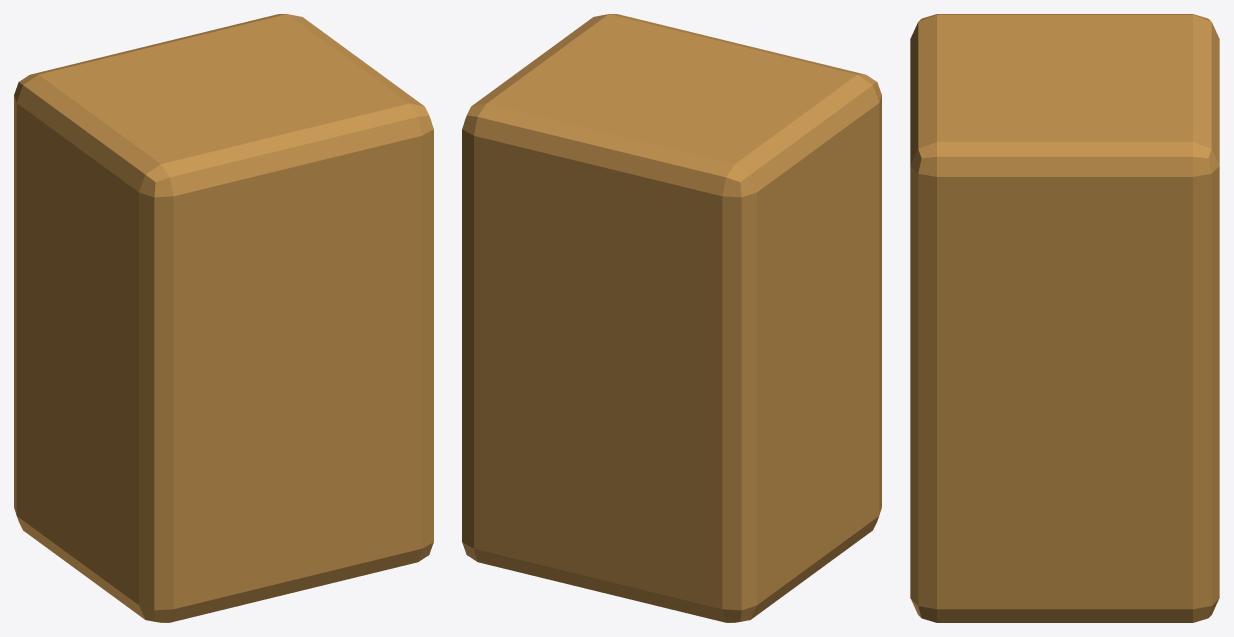
Rendered from SM_Lab_ToolCase__Latch_N0_16.fbx.
3 views of the same model, side by side, from view 1: azimuth 30°, elevation 25°; view 2: azimuth 150°, elevation 25°; view 3: azimuth 270°, elevation 25° (orthographic). The views are drawn at different scales.
Parts seen in each view (by area): view 1: SM_Lab_ToolCase__Latch_N0_16; view 2: SM_Lab_ToolCase__Latch_N0_16; view 3: SM_Lab_ToolCase__Latch_N0_16.
Boxes of the visible parts, bbox=[...] form: SM_Lab_ToolCase__Latch_N0_16: bbox=[14, 14, 433, 622]; SM_Lab_ToolCase__Latch_N0_16: bbox=[462, 14, 881, 622]; SM_Lab_ToolCase__Latch_N0_16: bbox=[910, 14, 1219, 622].
Size of the model in its own units: 4 by 3.5 by 6.
